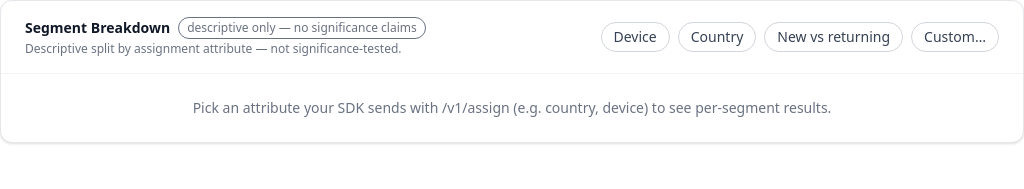
it: SegmentBreakdownCard — cohort chips › reveals the free-text custom input only after clicking Custom…
Click the button "Custom…". click: click(955, 37)
box: 911,22 -> 999,52
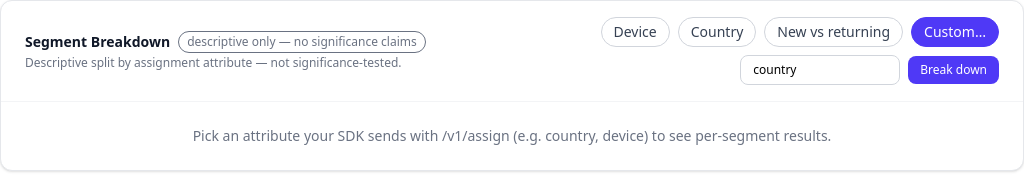
Expected: the field with placeholder "attribute (e.g. country)" is shown, 740,55 -> 900,85
